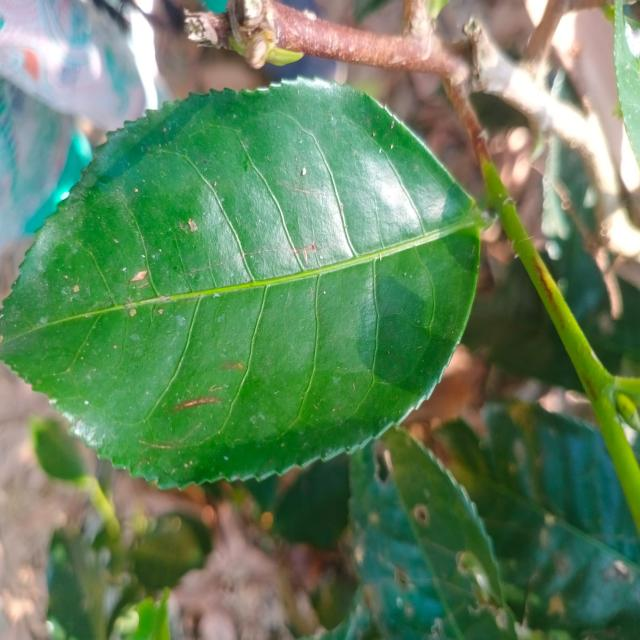Category D(7+ days, Not for Tea): (2, 65, 496, 522)
